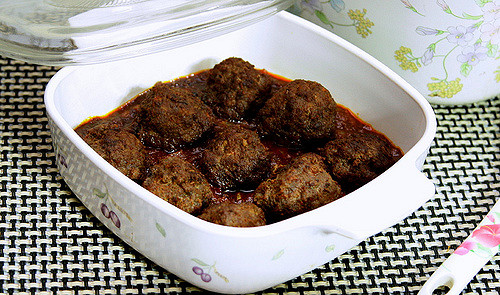meatballs: (133, 84, 368, 182)
